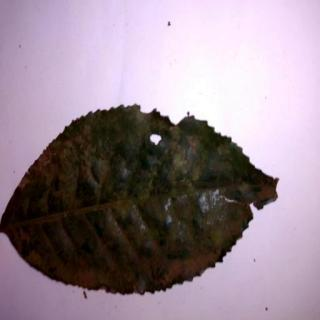Anthracnose: (1, 104, 279, 296)
